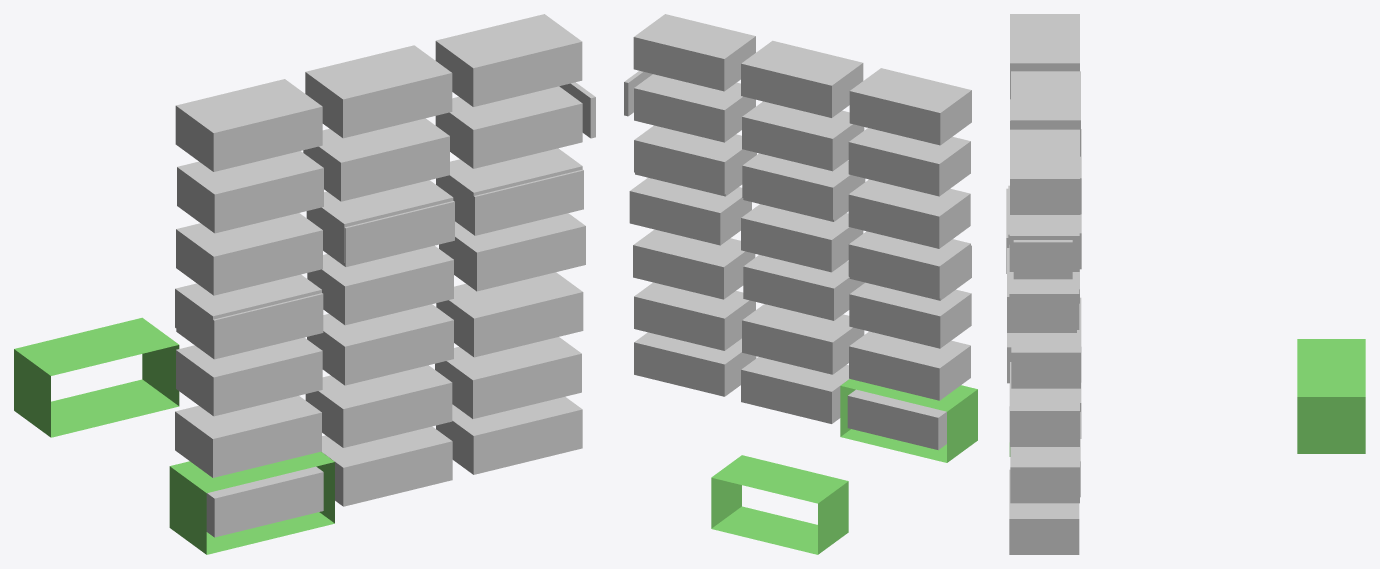
The model's file is warehouse.gltf.
3 renders of one model, left to right at view 1: azimuth 30°, elevation 25°; view 2: azimuth 150°, elevation 25°; view 3: azimuth 270°, elevation 25°, orthographic. The views are drawn at different scales.
Visible parts, largest first — view 1: Cube, Cube.008, Cube.009, Cube.003, Cube.007, Cube.022, Cube.006, Cube.020, Cube.002, Cube.021, Cube.013, Cube.005 (+15 smaller); view 2: Cube, Cube.008, Cube.009, Cube.003, Cube.007, Cube.022, Cube.006, Cube.010, Cube.020, Cube.021, Cube.013, Cube.005 (+12 smaller); view 3: Cube, Cube.003, Cube.020, Cube.009, Cube.008, Cube.023, Cube.019, Cube.027, Cube.014, Cube.017, Cube.002, Cube.001.
Boxes of the visible parts, x1=… form: Cube: x1=14, y1=317, x2=179, y2=437; Cube.008: x1=175, y1=79, x2=322, y2=171; Cube.009: x1=305, y1=45, x2=452, y2=138; Cube.003: x1=435, y1=14, x2=582, y2=106; Cube.007: x1=176, y1=213, x2=322, y2=295; Cube.022: x1=175, y1=395, x2=321, y2=477; Cube.006: x1=177, y1=151, x2=323, y2=233; Cube.020: x1=436, y1=272, x2=583, y2=357; Cube.002: x1=435, y1=86, x2=582, y2=168; Cube.021: x1=305, y1=365, x2=452, y2=447; Cube.013: x1=176, y1=337, x2=322, y2=416; Cube.005: x1=303, y1=118, x2=449, y2=201; Cube: x1=711, y1=455, x2=848, y2=554; Cube.008: x1=849, y1=68, x2=971, y2=145; Cube.009: x1=741, y1=40, x2=863, y2=117; Cube.003: x1=633, y1=14, x2=755, y2=91; Cube.007: x1=848, y1=179, x2=970, y2=248; Cube.022: x1=849, y1=331, x2=970, y2=400; Cube.006: x1=848, y1=128, x2=970, y2=196; Cube.010: x1=848, y1=231, x2=970, y2=298; Cube.020: x1=633, y1=229, x2=755, y2=299; Cube.021: x1=742, y1=304, x2=864, y2=374; Cube.013: x1=849, y1=282, x2=971, y2=348; Cube.005: x1=742, y1=101, x2=864, y2=171; Cube: x1=1297, y1=339, x2=1365, y2=453; Cube.003: x1=1010, y1=129, x2=1079, y2=214; Cube.020: x1=1010, y1=362, x2=1079, y2=446; Cube.009: x1=1011, y1=71, x2=1080, y2=156; Cube.008: x1=1010, y1=14, x2=1079, y2=99; Cube.023: x1=1010, y1=447, x2=1079, y2=503; Cube.019: x1=1011, y1=303, x2=1080, y2=388; Cube.027: x1=1009, y1=469, x2=1079, y2=554; Cube.014: x1=1007, y1=248, x2=1076, y2=332; Cube.017: x1=1013, y1=240, x2=1072, y2=279; Cube.002: x1=1009, y1=187, x2=1079, y2=271; Cube.001: x1=1009, y1=245, x2=1079, y2=329.
Size of the model in its own units: 6.1 by 6.28 by 5.25.
